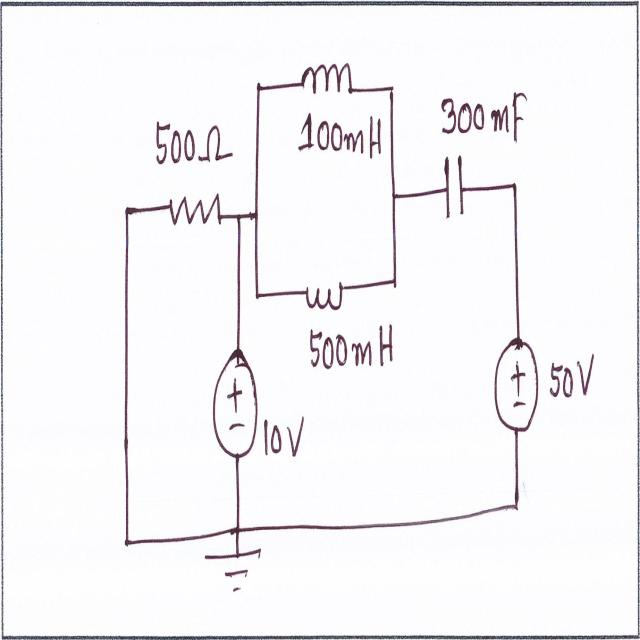capacitor: (438, 149, 468, 228)
ground: (202, 541, 266, 599)
inductor: (294, 45, 358, 108), (292, 276, 354, 316)
resistor: (162, 182, 228, 242)
voltage_source: (206, 341, 260, 465), (489, 323, 544, 442)
